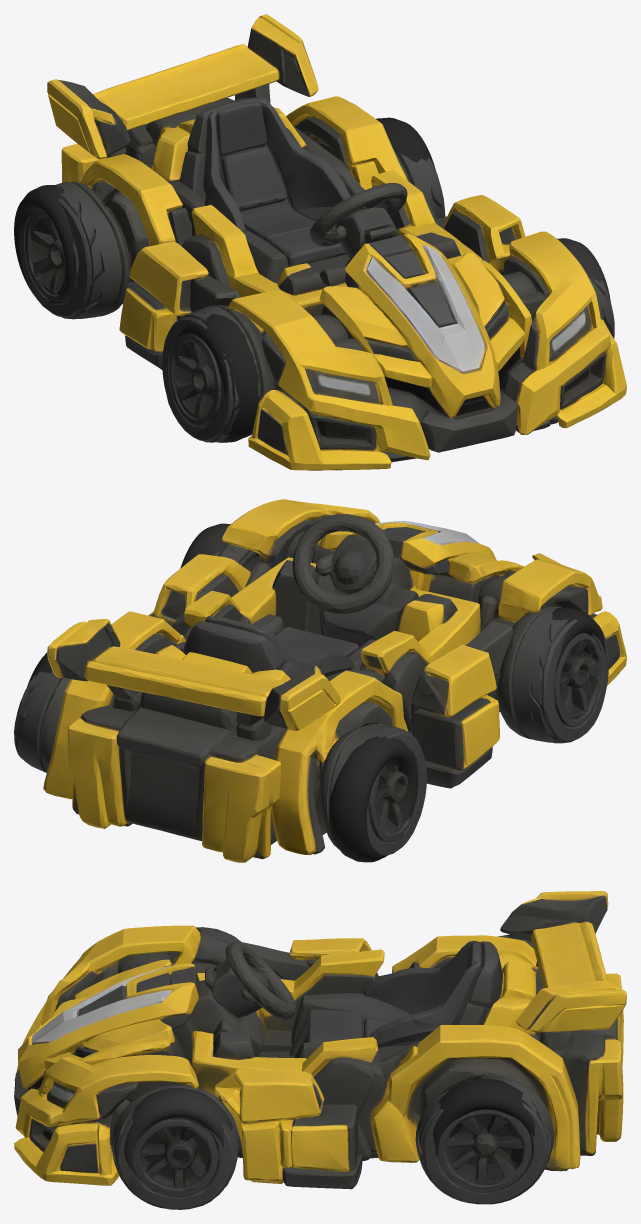
3 renders of one model, top to bottom at view 1: azimuth 30°, elevation 25°; view 2: azimuth 150°, elevation 25°; view 3: azimuth 270°, elevation 25°, orthographic. The views are drawn at different scales.
Parts seen in each view (by area): view 1: bumble_body, wheel_front_left, wheel_rear_left, wheel_rear_right, wheel_front_right; view 2: bumble_body, wheel_front_left, wheel_rear_left, wheel_rear_right, wheel_front_right; view 3: bumble_body, wheel_rear_right, wheel_front_right, wheel_front_left.
Part boxes in pixels (left/top/right/bottom): bumble_body: left=47, top=14, right=626, bottom=470; wheel_front_left: left=162, top=305, right=275, bottom=442; wheel_rear_left: left=14, top=181, right=109, bottom=318; wheel_rear_right: left=376, top=117, right=445, bottom=218; wheel_front_right: left=557, top=238, right=614, bottom=338; bumble_body: left=43, top=499, right=626, bottom=862; wheel_front_left: left=495, top=598, right=608, bottom=743; wheel_rear_left: left=316, top=724, right=426, bottom=862; wheel_rear_right: left=14, top=653, right=70, bottom=772; wheel_front_right: left=180, top=523, right=248, bottom=568; bumble_body: left=14, top=891, right=626, bottom=1189; wheel_rear_right: left=415, top=1067, right=553, bottom=1204; wheel_front_right: left=108, top=1085, right=239, bottom=1209; wheel_front_left: left=167, top=927, right=240, bottom=956.
Bounding box in the file's own units: 2.54 × 1.19 × 3.6.
Materials: 1 (1 with a texture image).
